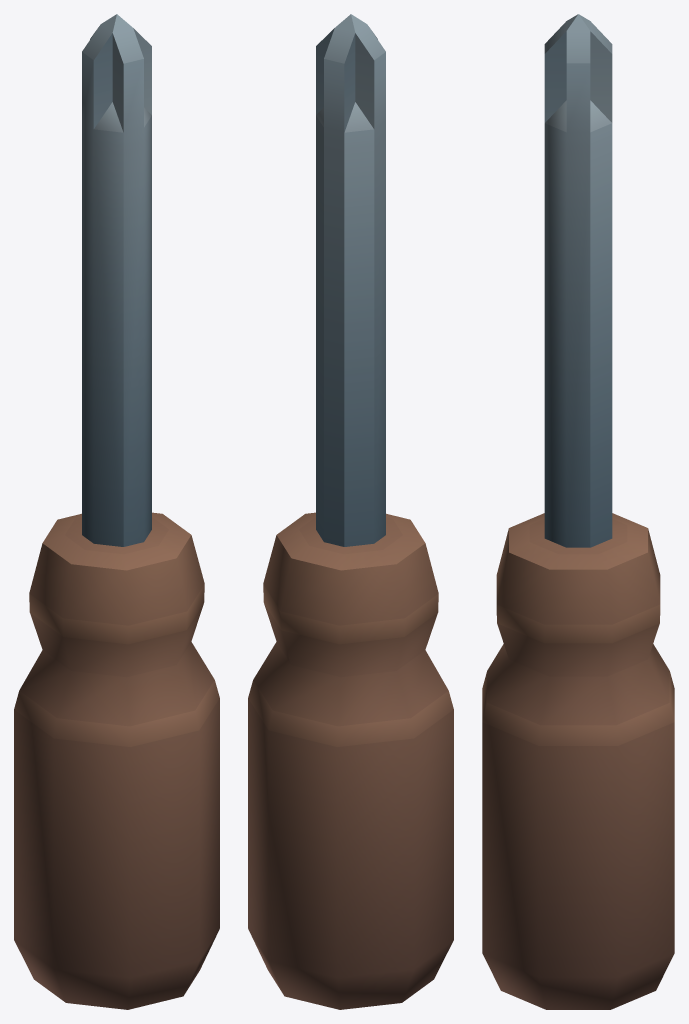
File: screwdriver_B_long.obj
3 renders of one model, left to right at view 1: azimuth 30°, elevation 25°; view 2: azimuth 150°, elevation 25°; view 3: azimuth 270°, elevation 25°, orthographic.
Parts seen in each view (by area): view 1: screwdriver_B_long; view 2: screwdriver_B_long; view 3: screwdriver_B_long.
Boxes of the visible parts, x1,y1,x2,y2 form: screwdriver_B_long: [14, 14, 219, 1009]; screwdriver_B_long: [248, 14, 453, 1009]; screwdriver_B_long: [482, 14, 674, 1009].
Size of the model in its own units: 0.1513 by 0.8536 by 0.1513.
Materials: 1 (1 with a texture image).
